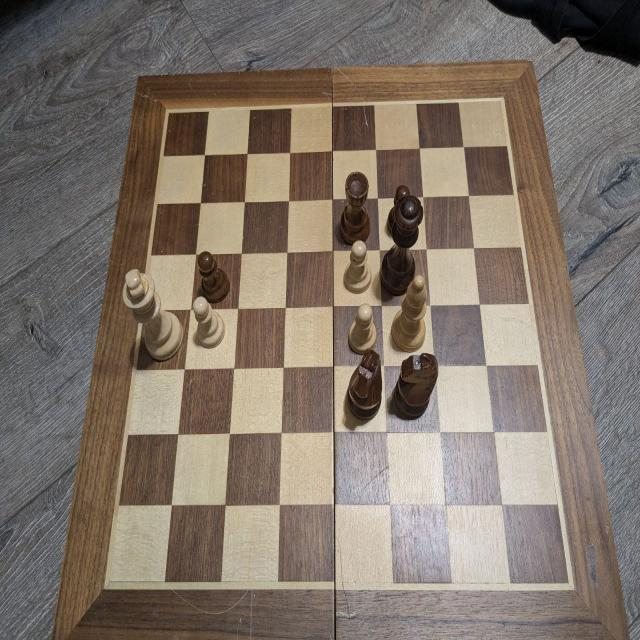black_knight: (392, 352, 440, 418), (346, 349, 382, 420)
black_pawn: (196, 250, 230, 303), (386, 184, 412, 234)
black_queen: (381, 194, 424, 296)
black_rook: (338, 171, 371, 246)
white_bishop: (390, 275, 428, 351)
white_king: (122, 268, 184, 362)
white_pawn: (192, 296, 226, 349), (343, 239, 372, 294), (348, 304, 377, 355)
